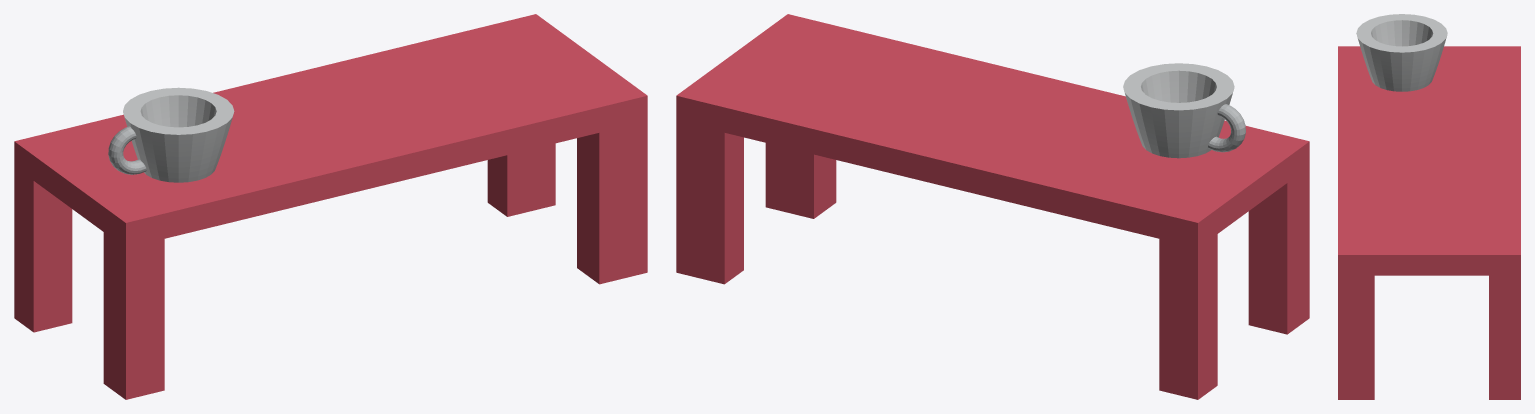
File: Table.glb
The picture shows the model from 3 angles, left to right: view 1: azimuth 30°, elevation 25°; view 2: azimuth 150°, elevation 25°; view 3: azimuth 270°, elevation 25°; orthographic projection. The views are drawn at different scales.
Visible parts, largest first — view 1: Mesh_Mesh_head_geo.001_lambert2SG.001; view 2: Mesh_Mesh_head_geo.001_lambert2SG.001; view 3: Mesh_Mesh_head_geo.001_lambert2SG.001.
Part boxes in pixels (bbox=[...]): Mesh_Mesh_head_geo.001_lambert2SG.001: bbox=[14, 14, 647, 399]; Mesh_Mesh_head_geo.001_lambert2SG.001: bbox=[676, 14, 1309, 399]; Mesh_Mesh_head_geo.001_lambert2SG.001: bbox=[1338, 14, 1520, 399].
Bounding box in the file's own units: 108 × 47 × 40.
